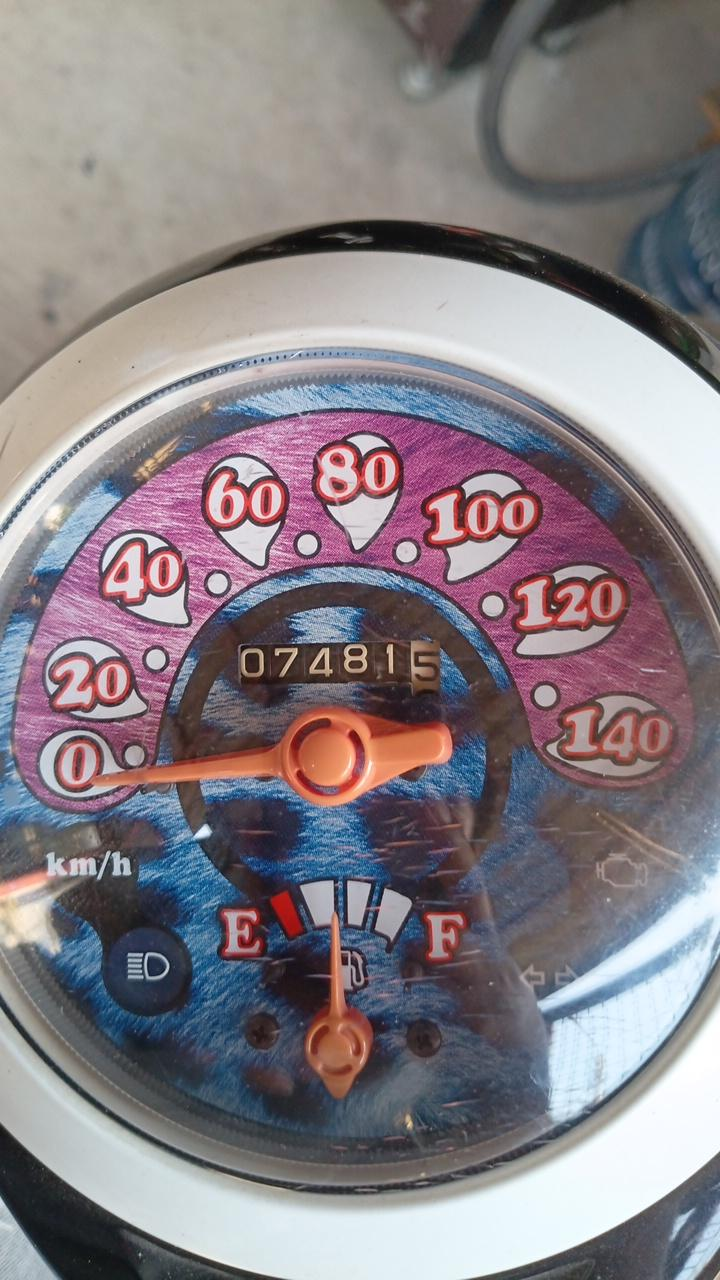0: (241, 647, 265, 679)
1: (385, 643, 395, 675)
4: (308, 646, 334, 678)
5: (414, 650, 440, 683)
7: (273, 647, 300, 680)
8: (342, 643, 369, 676)
odometer: (235, 639, 443, 699)
